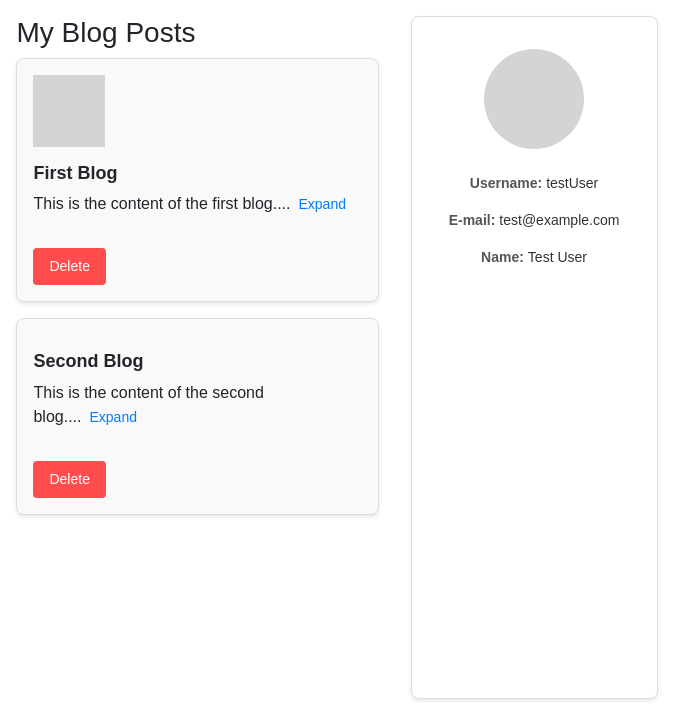
Test: Profile Component - Blogs Section › expands and collapses blog content
Check: the text "First Blog" is shown, box [34,163,118,183]
Find the "Expand" button inside the first blog post
Step 1. Click the 1st text "Expand" → x=322, y=204, box [298,196,346,212]
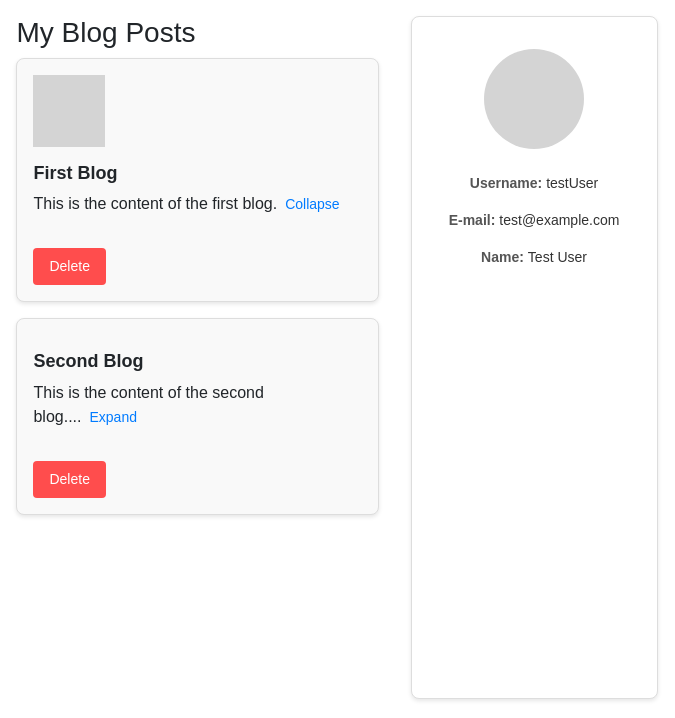
Check: the text "This is the content of the first blog." is shown, box [34,195,277,212]
Check: the text "Collapse" is shown
Collapse the content
Step 2. Click the text "Collapse" → x=312, y=204, box [285,196,340,212]
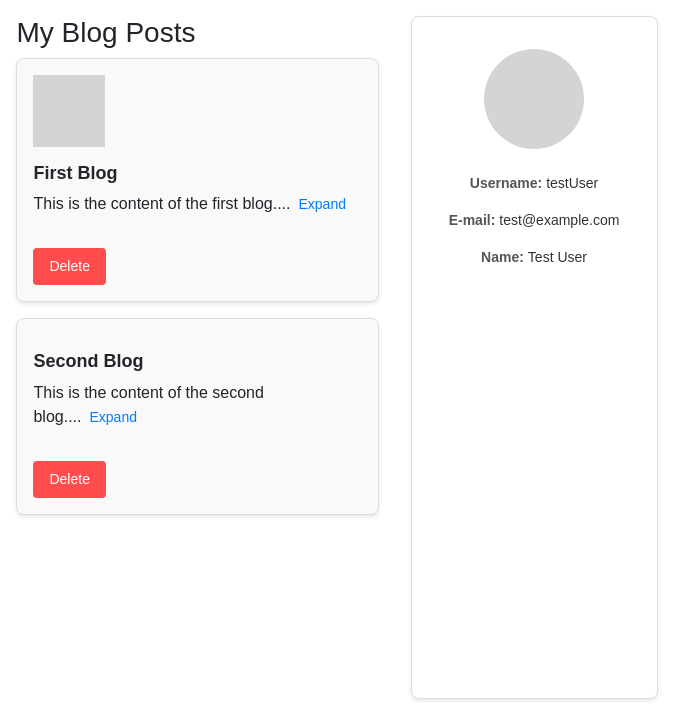
Check: the 1st text "Expand" is shown, box [298,196,346,212]
